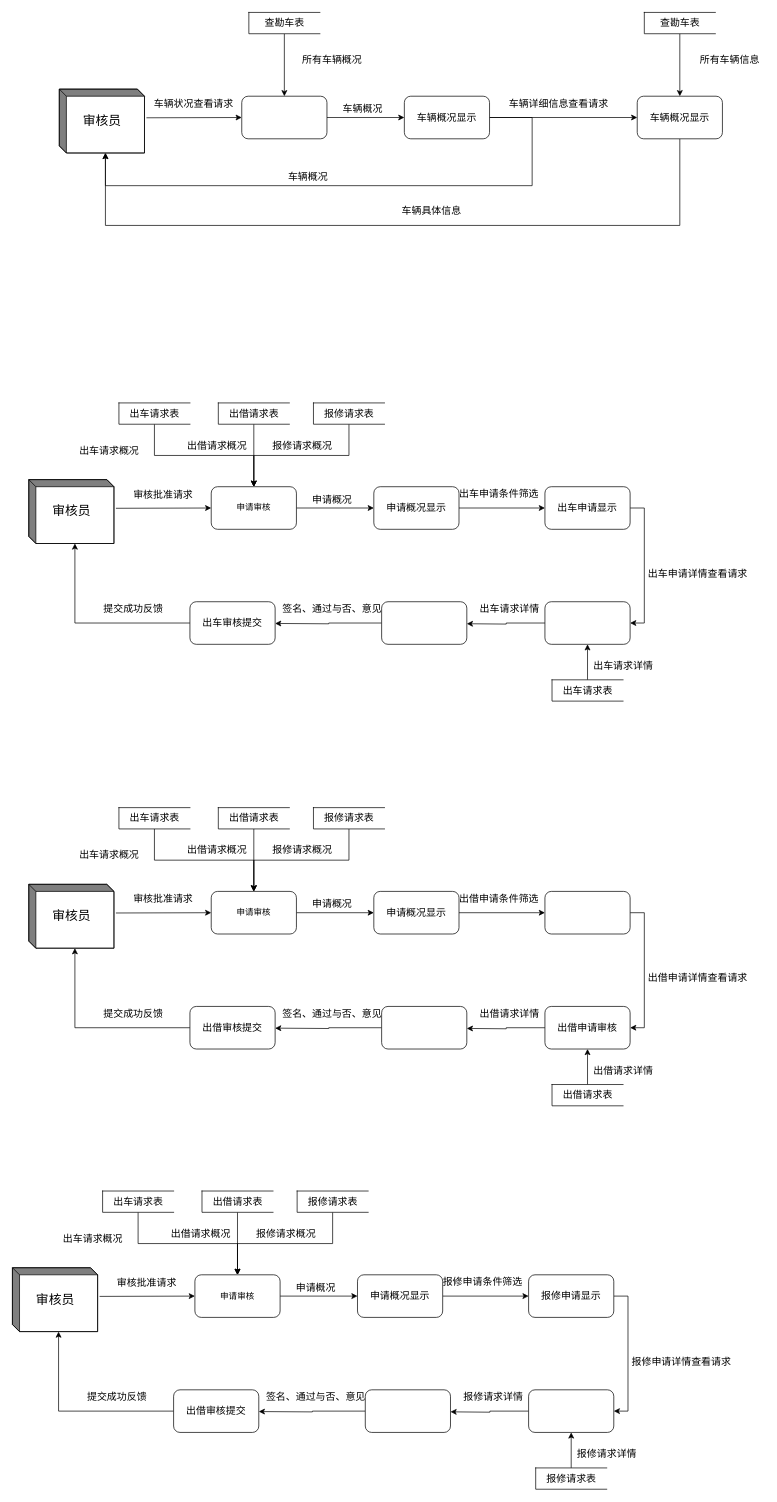
Image size: 777x1502. Some labels were removed from this diagram. Here are the shapes that lost their labels. From the top down, the centre of each, then its label:
At (x=284, y=117): "车辆状况查询".
At (x=424, y=622): "出车申请详情".
At (x=587, y=622): "出车申请审核".
At (x=587, y=912): "出借申请显示".
At (x=424, y=1027): "出借申请详情".
At (x=407, y=1410): "报修申请详情".
At (x=571, y=1410): "报修申请审核".
